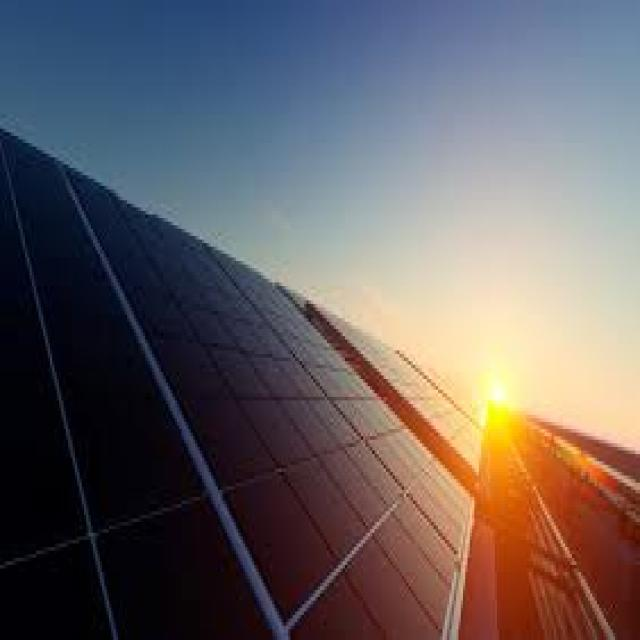clean-solar-panel: (1, 130, 472, 638)
